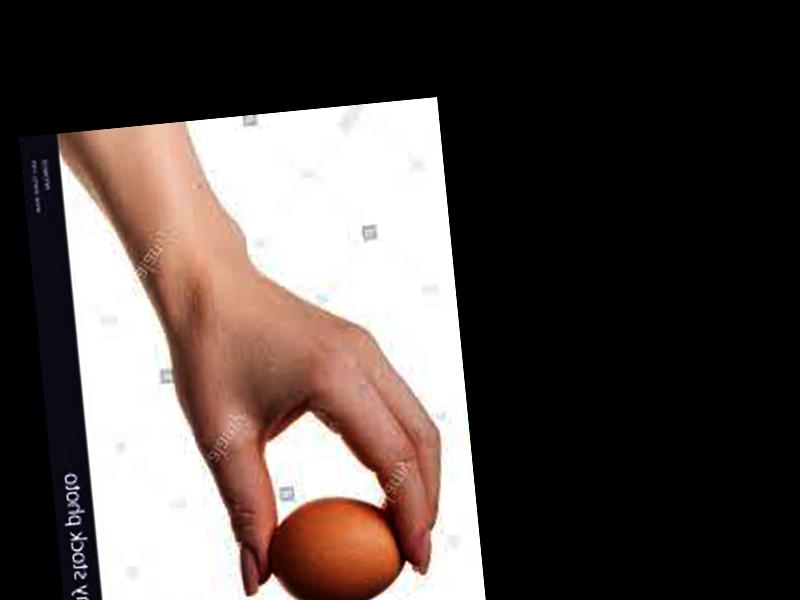Eggs: (266, 488, 408, 600)
